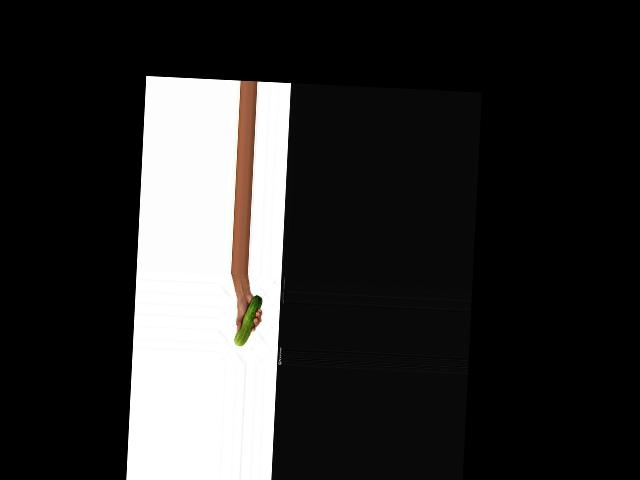cucumber: (233, 293, 262, 346)
